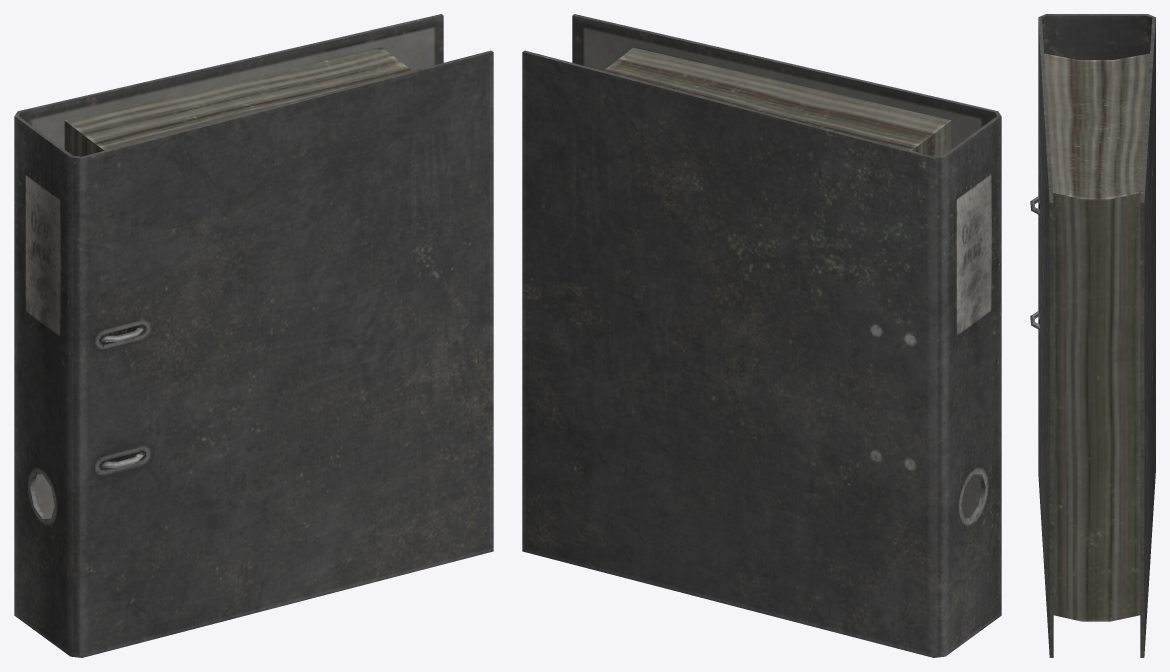
File: FolderD.fbx
3 views of the same model, side by side, from view 1: azimuth 30°, elevation 25°; view 2: azimuth 150°, elevation 25°; view 3: azimuth 270°, elevation 25° (orthographic). The views are drawn at different scales.
Parts seen in each view (by area): view 1: FolderD; view 2: FolderD; view 3: FolderD.
Part boxes in pixels (<box>): FolderD: <box>14,14,493,657</box>; FolderD: <box>522,14,1001,657</box>; FolderD: <box>1030,14,1155,657</box>.
Size of the model in its own units: 28.5 by 32 by 8.02.
